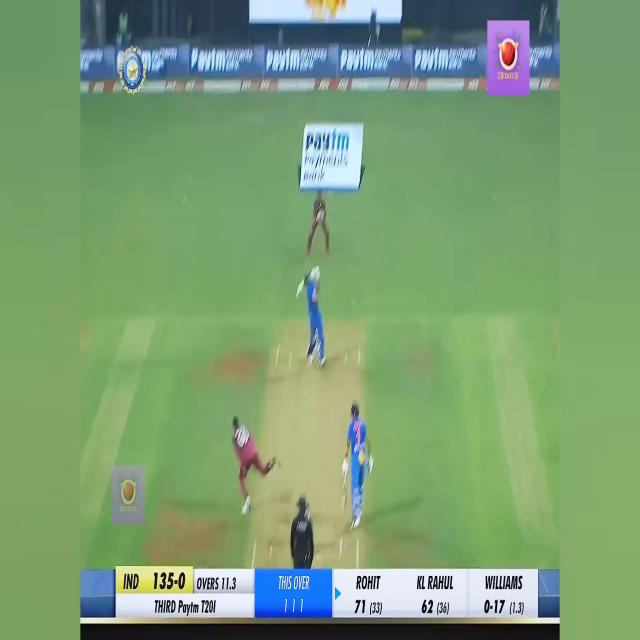fully_visible: (191, 44, 232, 78), (305, 128, 351, 156), (340, 44, 374, 76), (267, 43, 300, 75), (413, 43, 448, 73), (176, 591, 200, 619)
